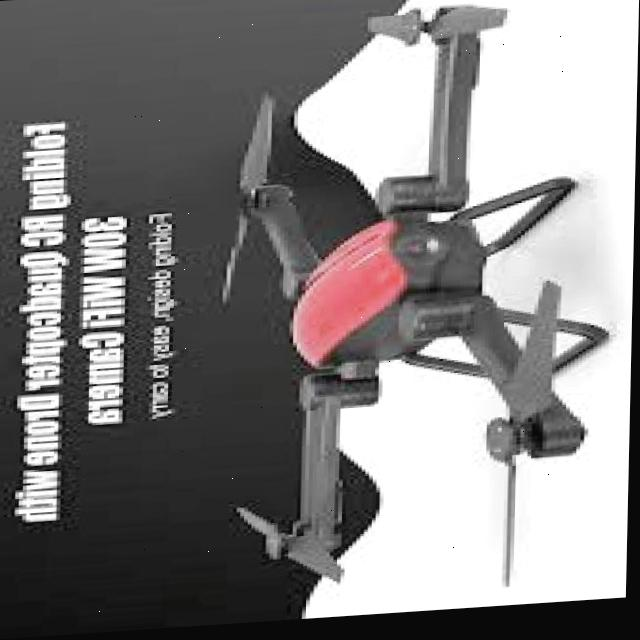drone: (203, 0, 637, 619)
